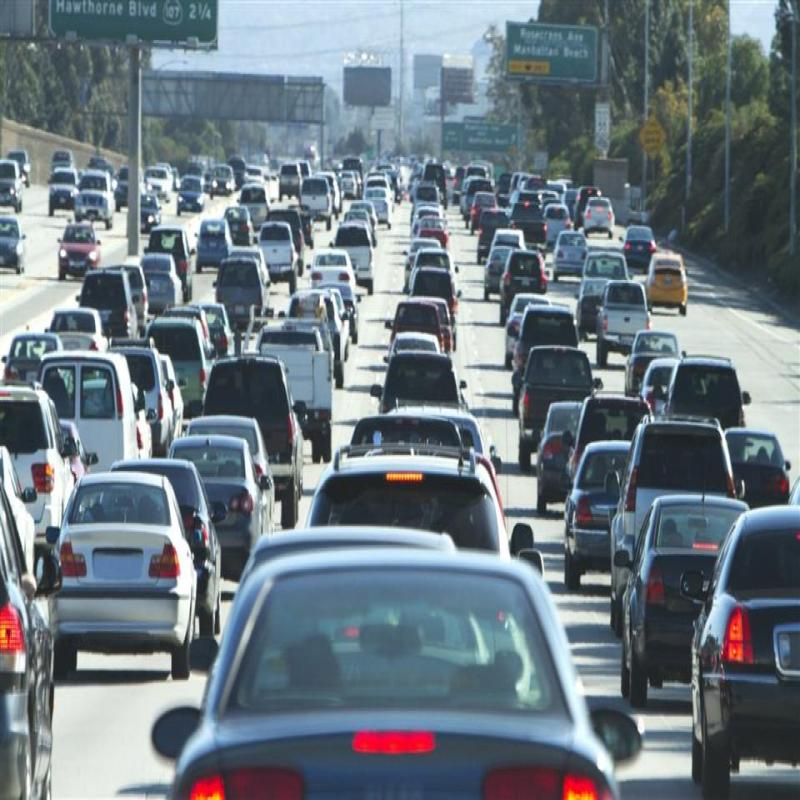car: (191, 569, 715, 800), (78, 457, 192, 670), (698, 510, 800, 731), (616, 415, 739, 590), (166, 396, 261, 596), (126, 437, 214, 648), (203, 354, 316, 516), (304, 454, 499, 546), (622, 482, 710, 682), (351, 393, 471, 494), (531, 391, 614, 525), (564, 432, 646, 562), (260, 324, 336, 457), (578, 398, 666, 501), (517, 294, 585, 392), (521, 352, 593, 435)
